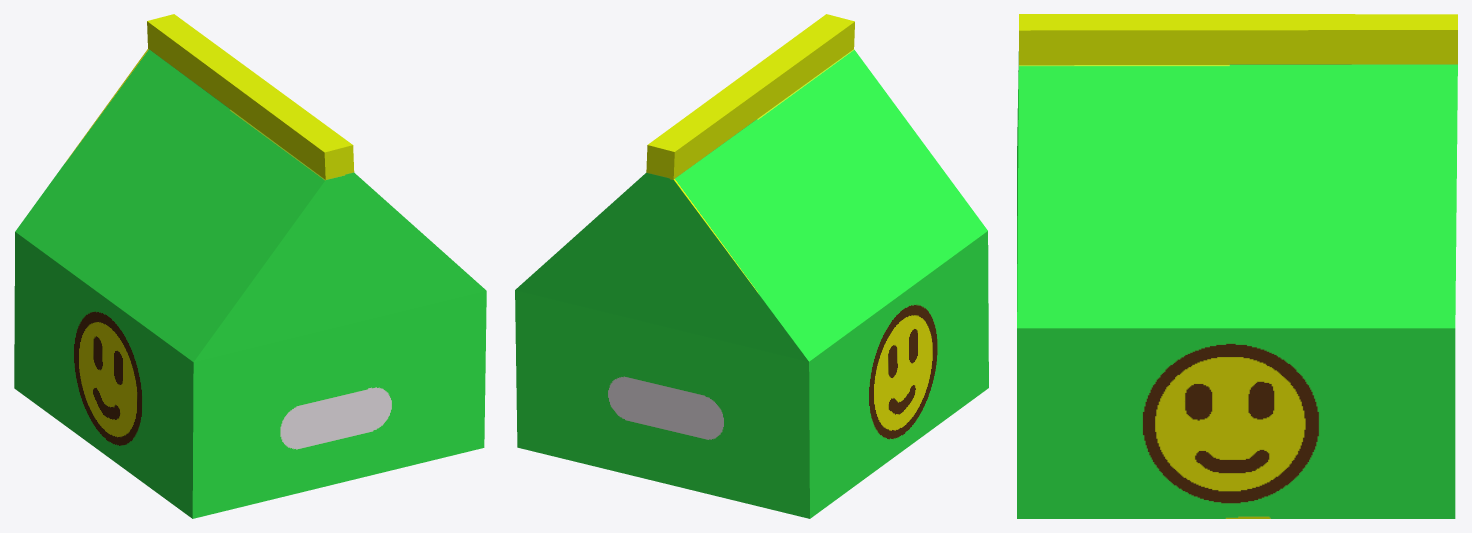
File: happybox.fbx
3 views of the same model, side by side, from view 1: azimuth 30°, elevation 25°; view 2: azimuth 150°, elevation 25°; view 3: azimuth 270°, elevation 25° (orthographic). The views are drawn at different scales.
Visible parts, largest first — view 1: Cube; view 2: Cube; view 3: Cube.
Boxes of the visible parts, <box> form: Cube: <box>14,14,486,518</box>; Cube: <box>515,14,988,518</box>; Cube: <box>1017,14,1457,518</box>.
Bounding box in the file's own units: 202 × 219 × 213.
